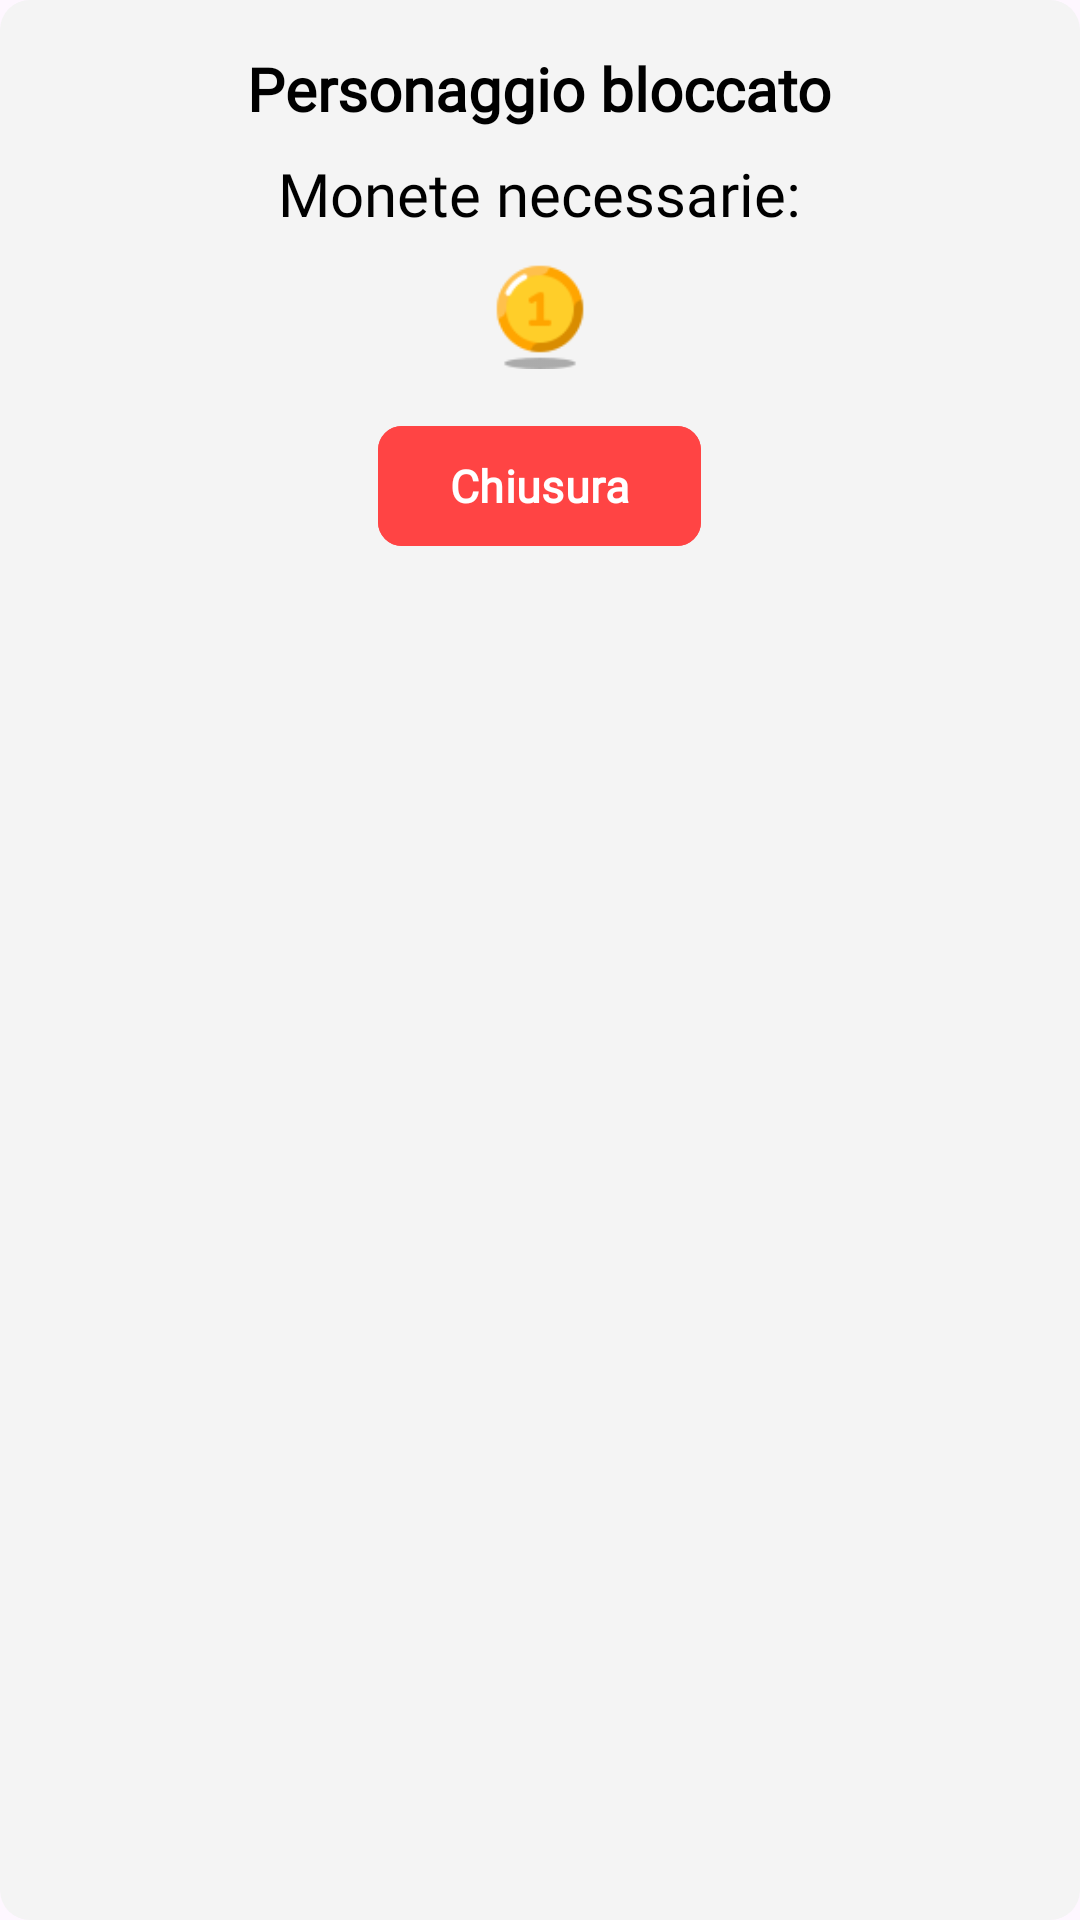

Icons on this 1080×1920 Android screen, each with its box as region(x1, y1, x2, y2):
coin: region(496, 265, 584, 369)
